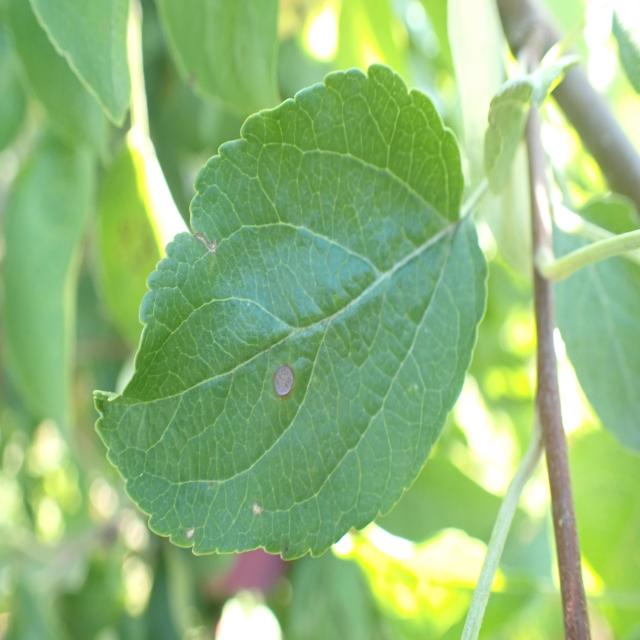frog-eye-leaf-spot: (92, 60, 489, 562)
